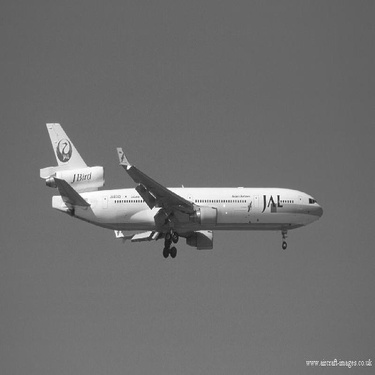airplane: (33, 121, 329, 258)
